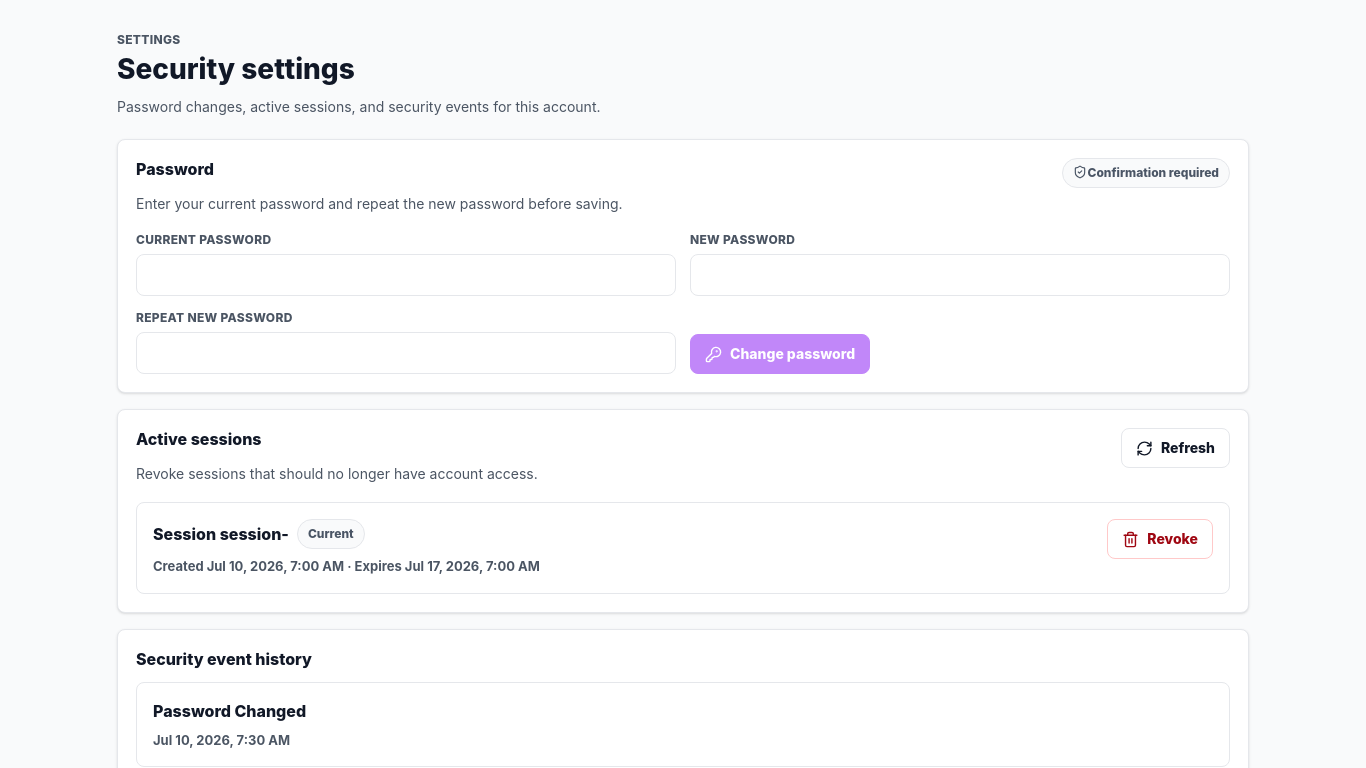
it: SecuritySettings › sends explicit confirmation when revoking a session
Expected: the heading "Session session- Current" is shown, x1=153 y1=519 x2=365 y2=549
Click the button "Revoke": (1160, 539) x1=1107 y1=519 x2=1213 y2=559
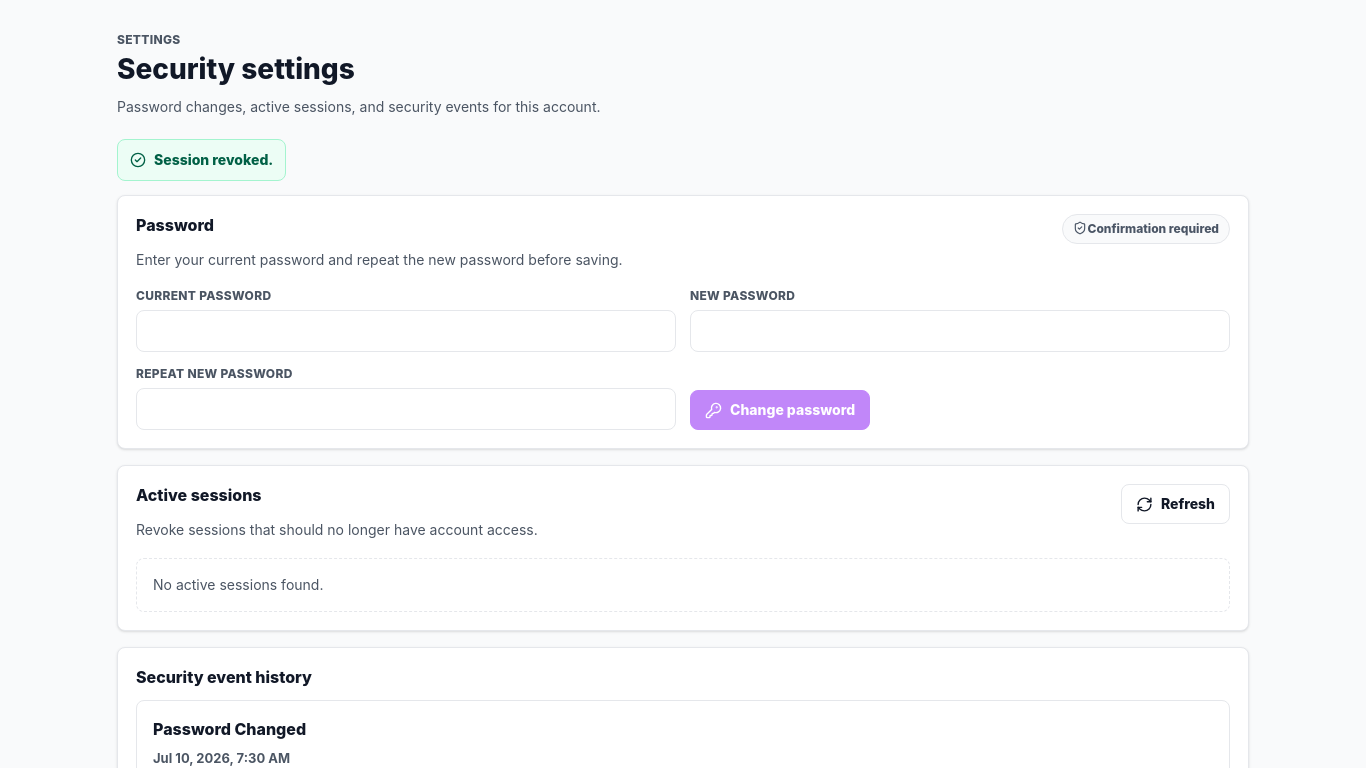
Now the text "Session revoked." is shown, box x1=117 y1=139 x2=286 y2=181
